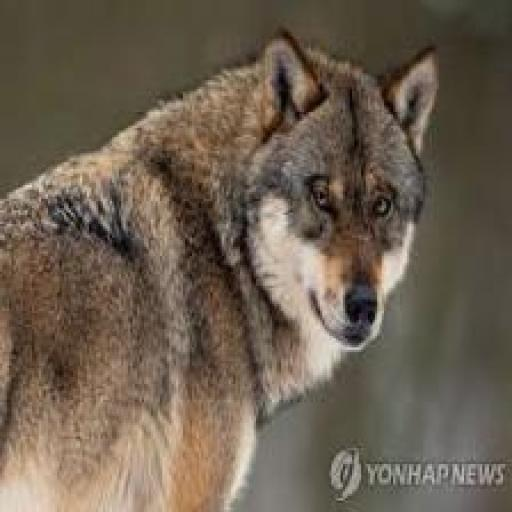wolf: (0, 16, 441, 511)
